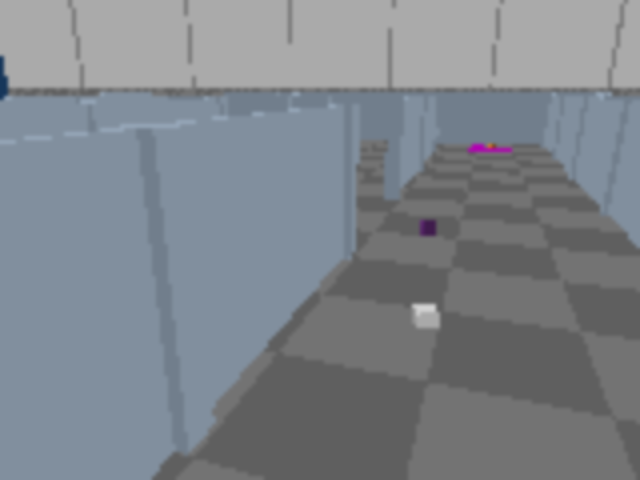person: (0, 0, 15, 191)
puck: (410, 303, 440, 329), (421, 218, 437, 236)
